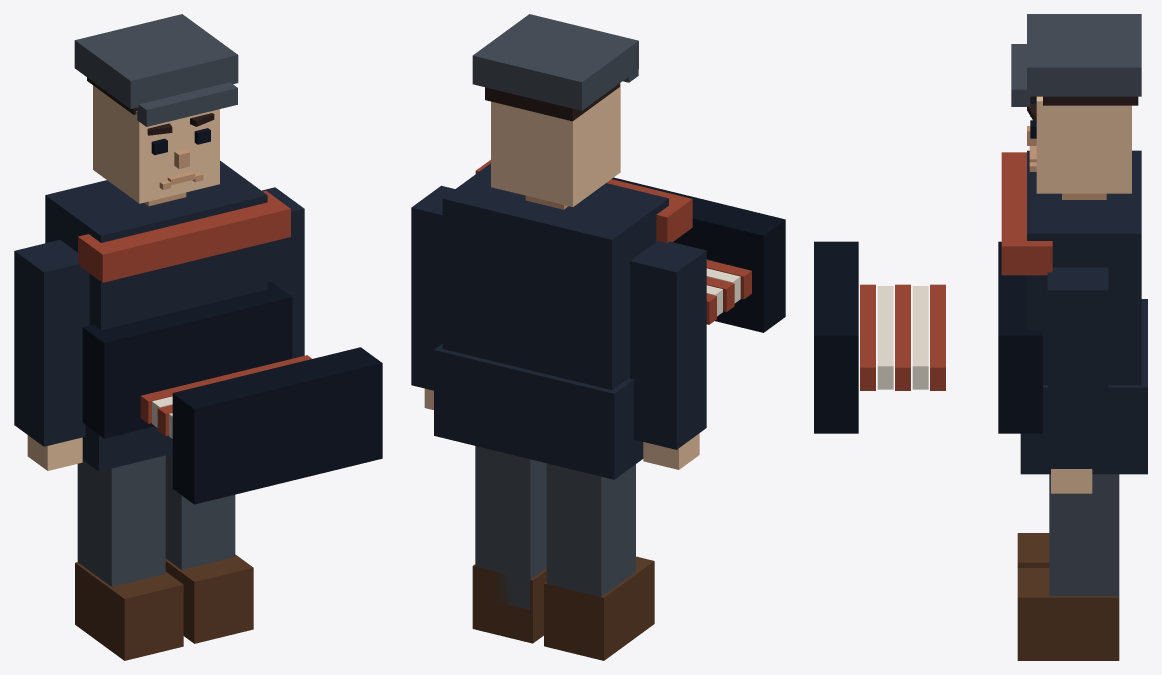
Rendered from npc_tolik.glb.
3 views of the same model, side by side, from view 1: azimuth 30°, elevation 25°; view 2: azimuth 150°, elevation 25°; view 3: azimuth 270°, elevation 25° (orthographic). The views are drawn at different scales.
Parts seen in each view (by area): view 1: npc_tolik; view 2: npc_tolik; view 3: npc_tolik.
Part boxes in pixels (x1=…): npc_tolik: x1=14, y1=14, x2=382, y2=660; npc_tolik: x1=411, y1=14, x2=785, y2=660; npc_tolik: x1=814, y1=14, x2=1147, y2=660.
Bounding box in the file's own units: 0.97 × 2.04 × 1.05.
1 material, 1 textured.
